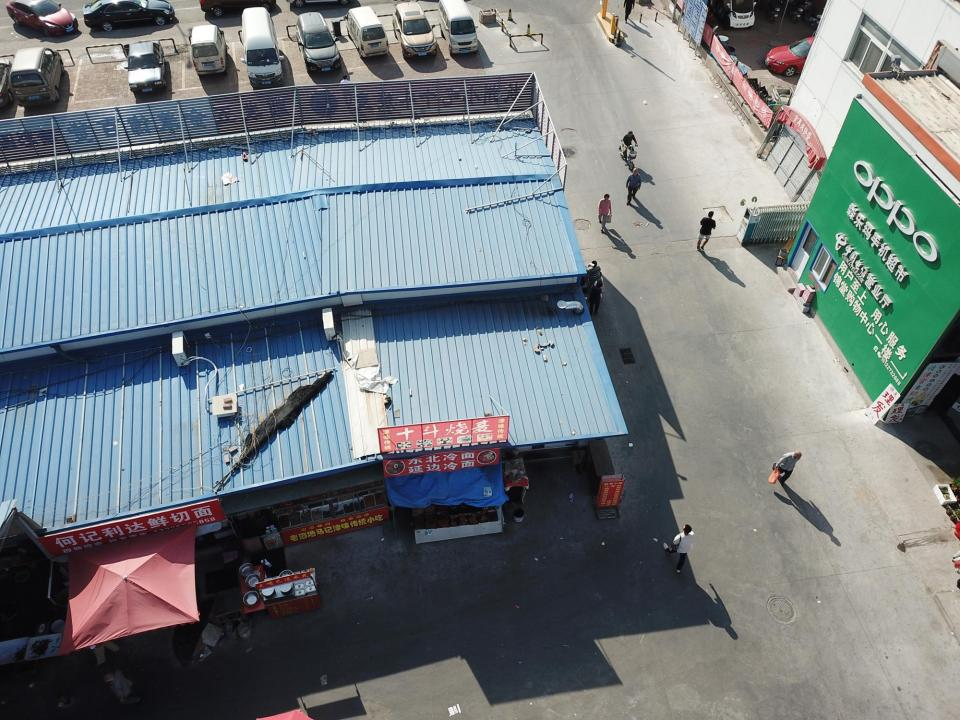car: (764, 35, 851, 77), (82, 0, 175, 31), (296, 12, 342, 73), (5, 0, 79, 37), (392, 1, 437, 59), (124, 39, 166, 92), (198, 0, 276, 17)
van: (240, 7, 284, 88), (10, 47, 65, 107), (343, 6, 389, 58), (437, 0, 479, 56), (190, 24, 228, 78)
